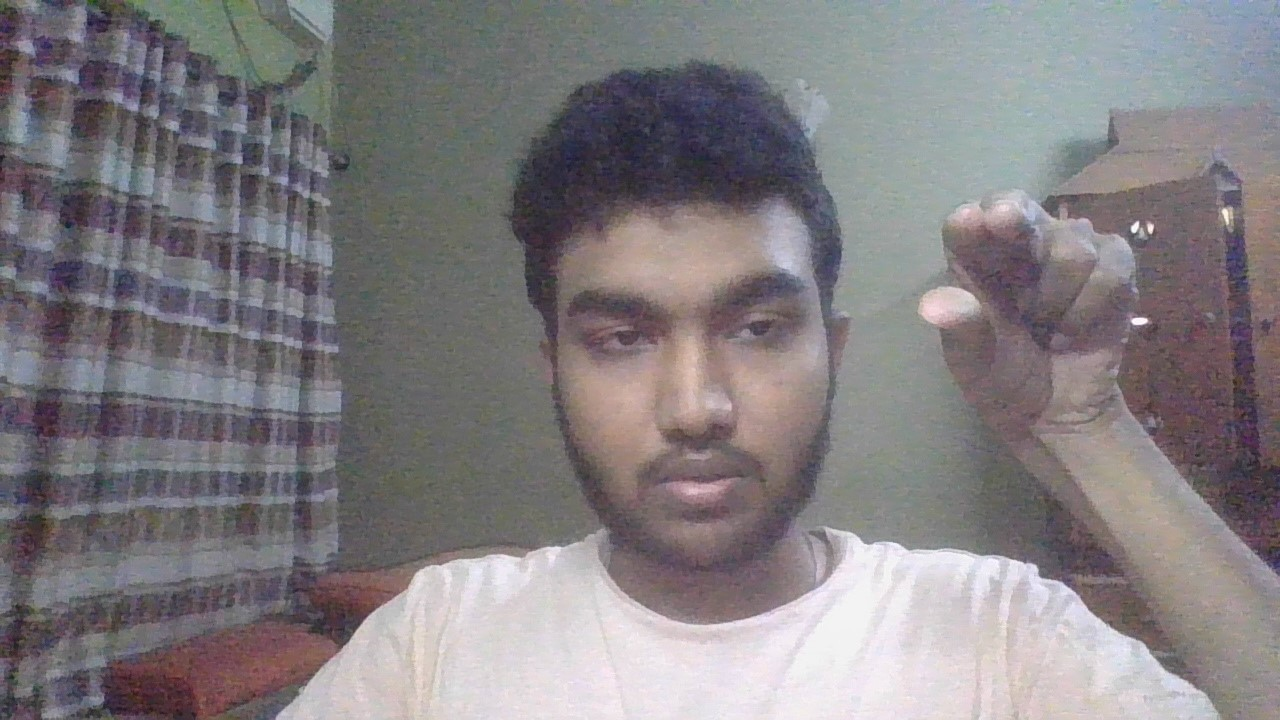No: (914, 173, 1159, 458)
